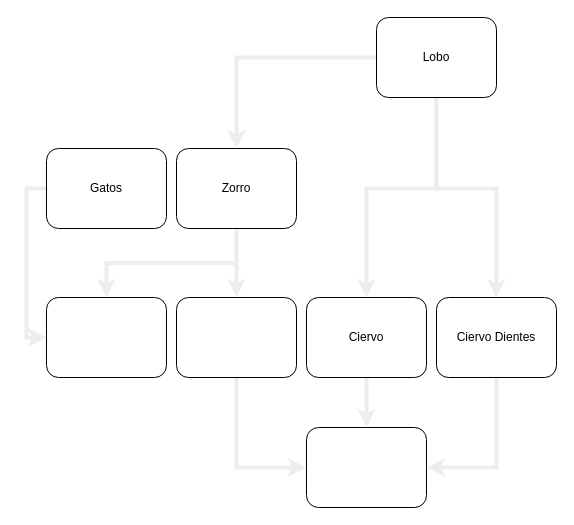
The diagram is 574 pixels wide and 525 high, and some of its shapes have lost their labels. The centre of each missing label's shape, as x and y in pixels:
Aves: (106,337)
Cesped: (366,467)
Conejo: (236,337)
